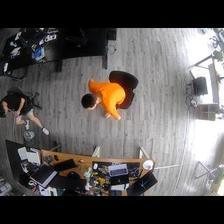normal: (1, 88, 50, 138), (80, 76, 129, 122)
